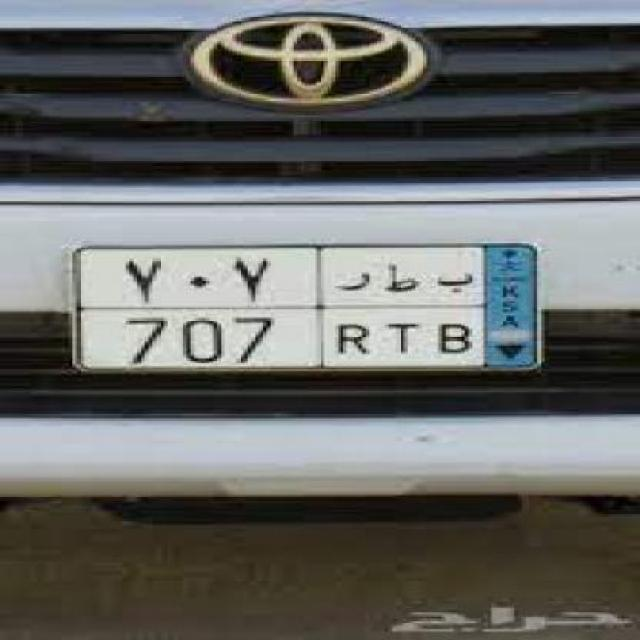license_plate: (61, 240, 546, 374)
